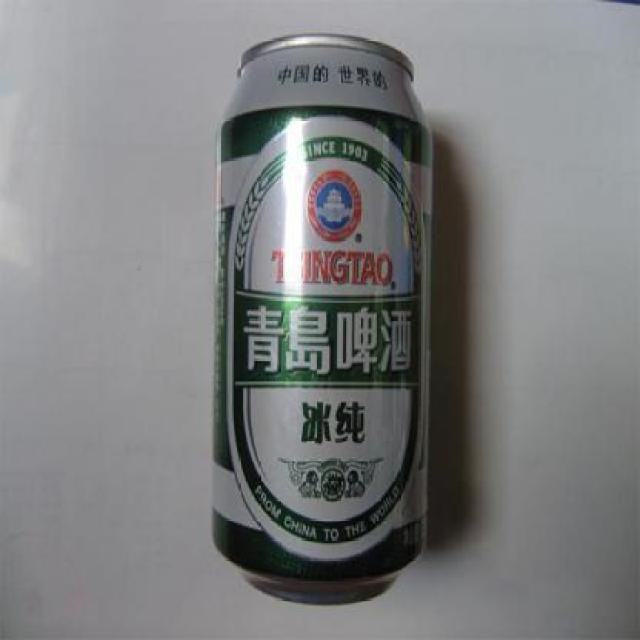Metal: (213, 30, 427, 604)
